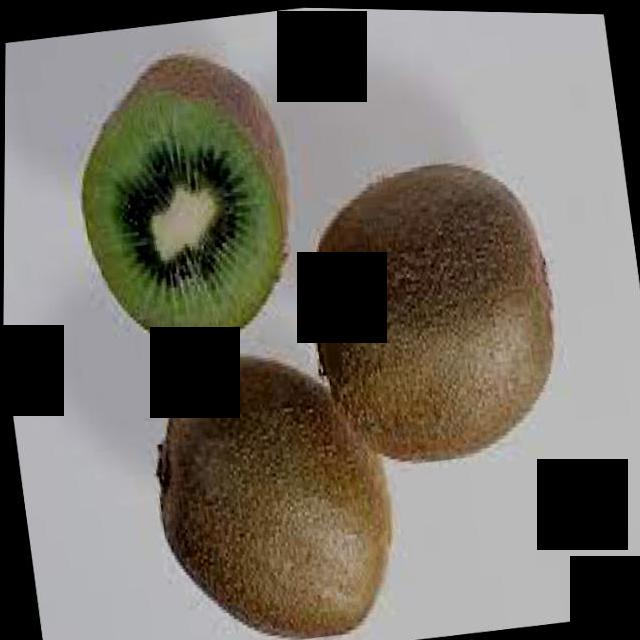kiwi: (293, 148, 567, 483), (137, 330, 423, 640)
